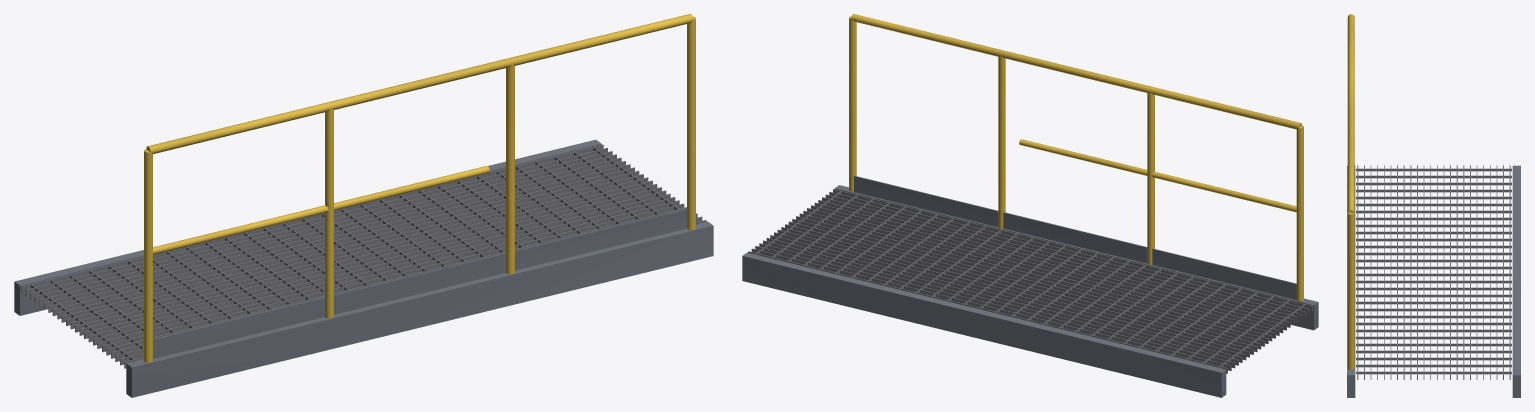
Rendered from walkway_section.glb.
The picture shows the model from 3 angles, left to right: view 1: azimuth 30°, elevation 25°; view 2: azimuth 150°, elevation 25°; view 3: azimuth 270°, elevation 25°; orthographic projection. The views are drawn at different scales.
Parts seen in each view (by area): view 1: walkway_section; view 2: walkway_section; view 3: walkway_section.
Boxes of the visible parts, x1=… form: walkway_section: x1=14, y1=14, x2=713, y2=397; walkway_section: x1=742, y1=14, x2=1318, y2=397; walkway_section: x1=1347, y1=14, x2=1520, y2=397.
Bounding box in the file's own units: 3 × 1.21 × 1.05.
